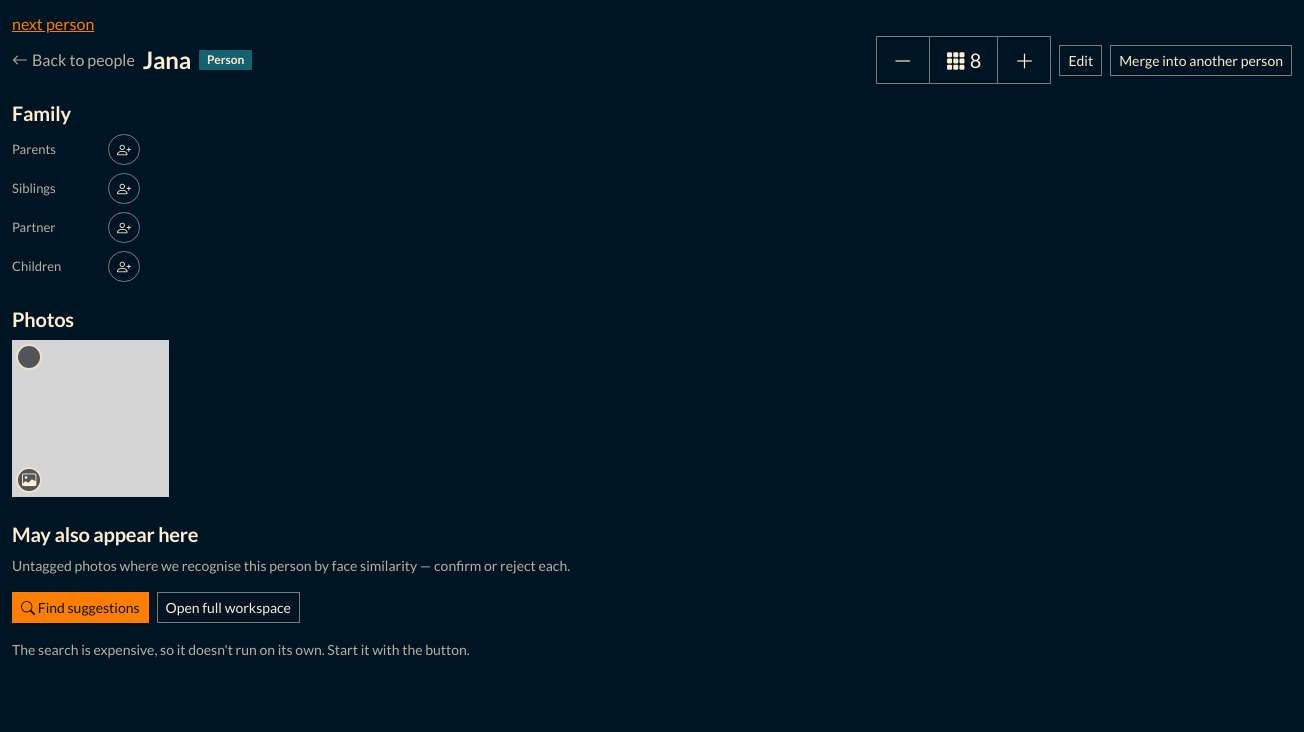
Scenario: SubjectPage › the set-cover action keeps working, and steps aside once a photo is picked
Click the button named "Set as cover": (29, 480) [16,467,42,493]
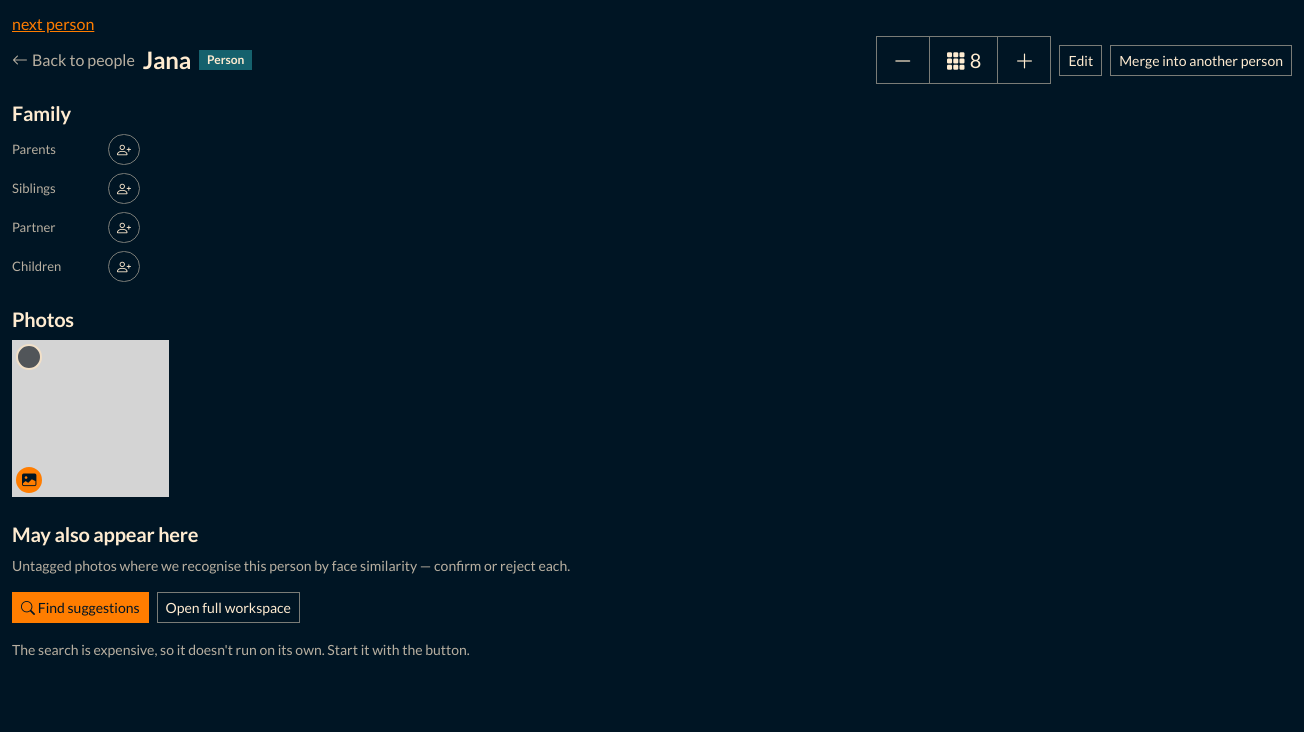
Click the button named "Select a.jpg": (29, 357) [16,344,42,370]
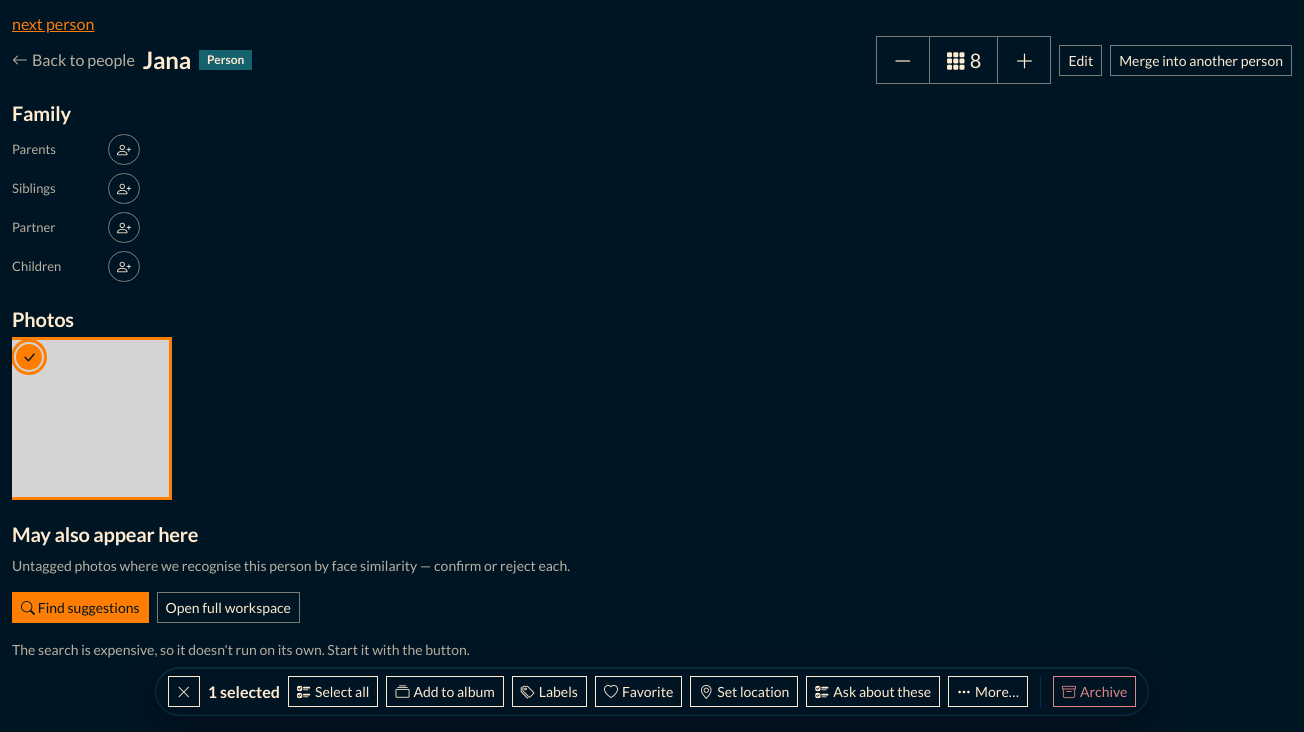
Expected: the button "Cover" is gone
